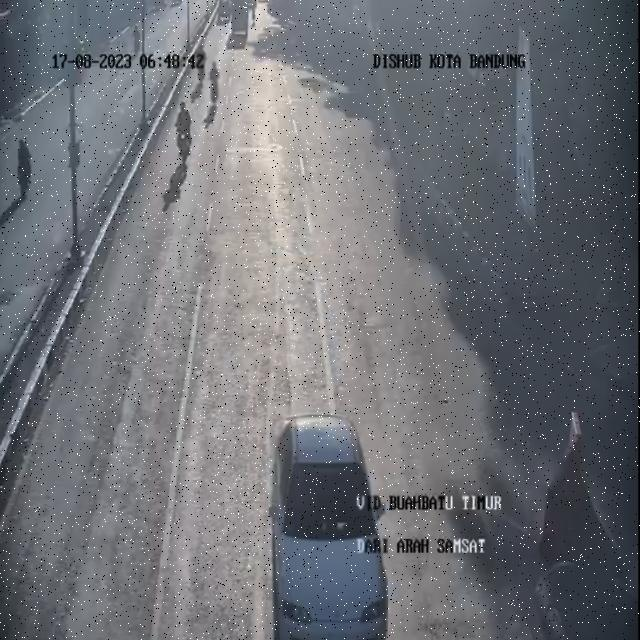cars: (271, 408, 388, 638)
motorcycle: (169, 97, 200, 206), (243, 0, 266, 50), (207, 57, 226, 113), (195, 40, 210, 94)
